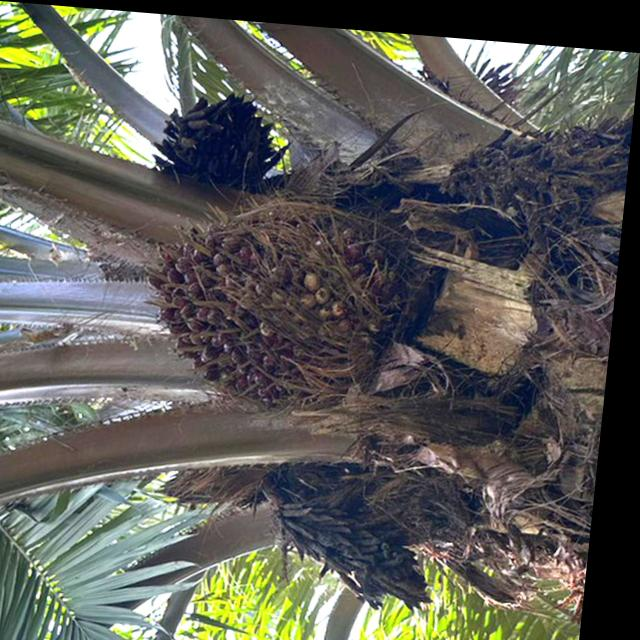ripe: (132, 180, 401, 419)
